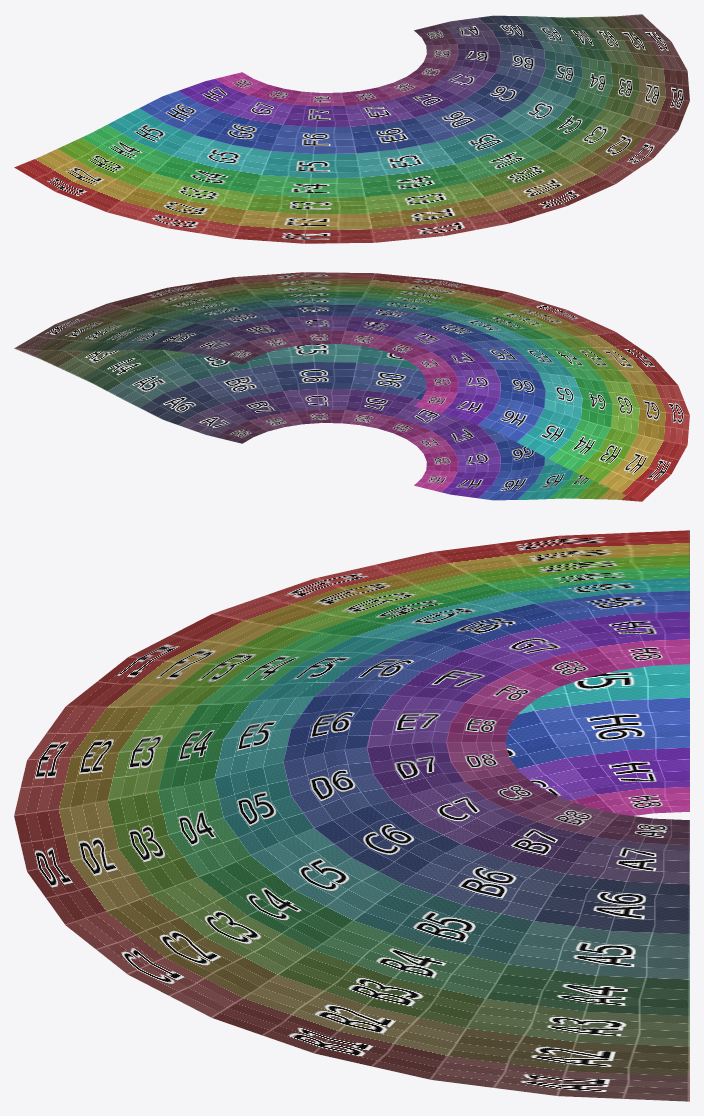
The model's file is Slash_02.fbx.
The picture shows the model from 3 angles, top to bottom: view 1: azimuth 30°, elevation 25°; view 2: azimuth 150°, elevation 25°; view 3: azimuth 270°, elevation 25°; orthographic projection. The views are drawn at different scales.
Parts seen in each view (by area): view 1: Sphere; view 2: Sphere; view 3: Sphere.
Boxes of the visible parts, x1,y1,x2,y2 form: Sphere: (14, 14, 689, 243); Sphere: (14, 272, 689, 501); Sphere: (14, 530, 689, 1101).
Bounding box in the file's own units: 1.96 × 0.2363 × 0.9808.
Materials: 1 (1 with a texture image).
